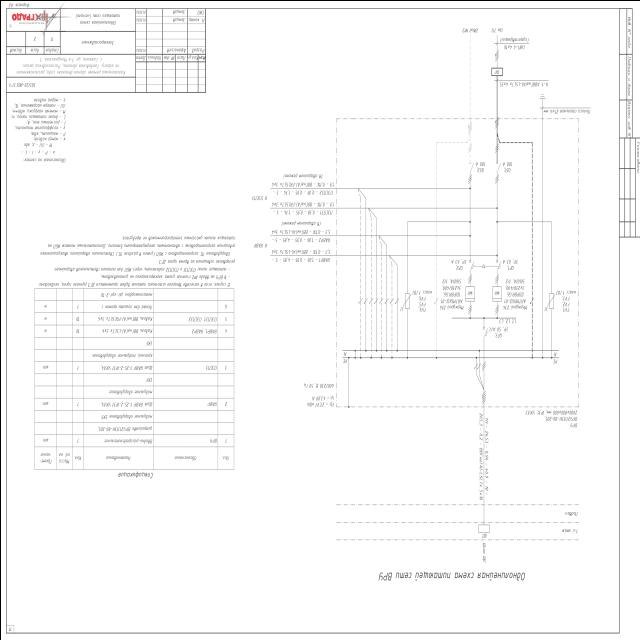-: (438, 276, 463, 311), (502, 276, 527, 310), (524, 408, 576, 421), (410, 287, 432, 296), (486, 324, 508, 332), (554, 289, 576, 295), (448, 258, 466, 264), (500, 258, 518, 264), (474, 160, 484, 167), (502, 160, 512, 167)
FV: (402, 289, 410, 310), (547, 290, 555, 310)
QF: (480, 324, 488, 338), (494, 257, 500, 271), (468, 257, 473, 271)
QS: (493, 160, 501, 173), (466, 160, 474, 173)
WH: (491, 284, 501, 302), (464, 284, 474, 302)
